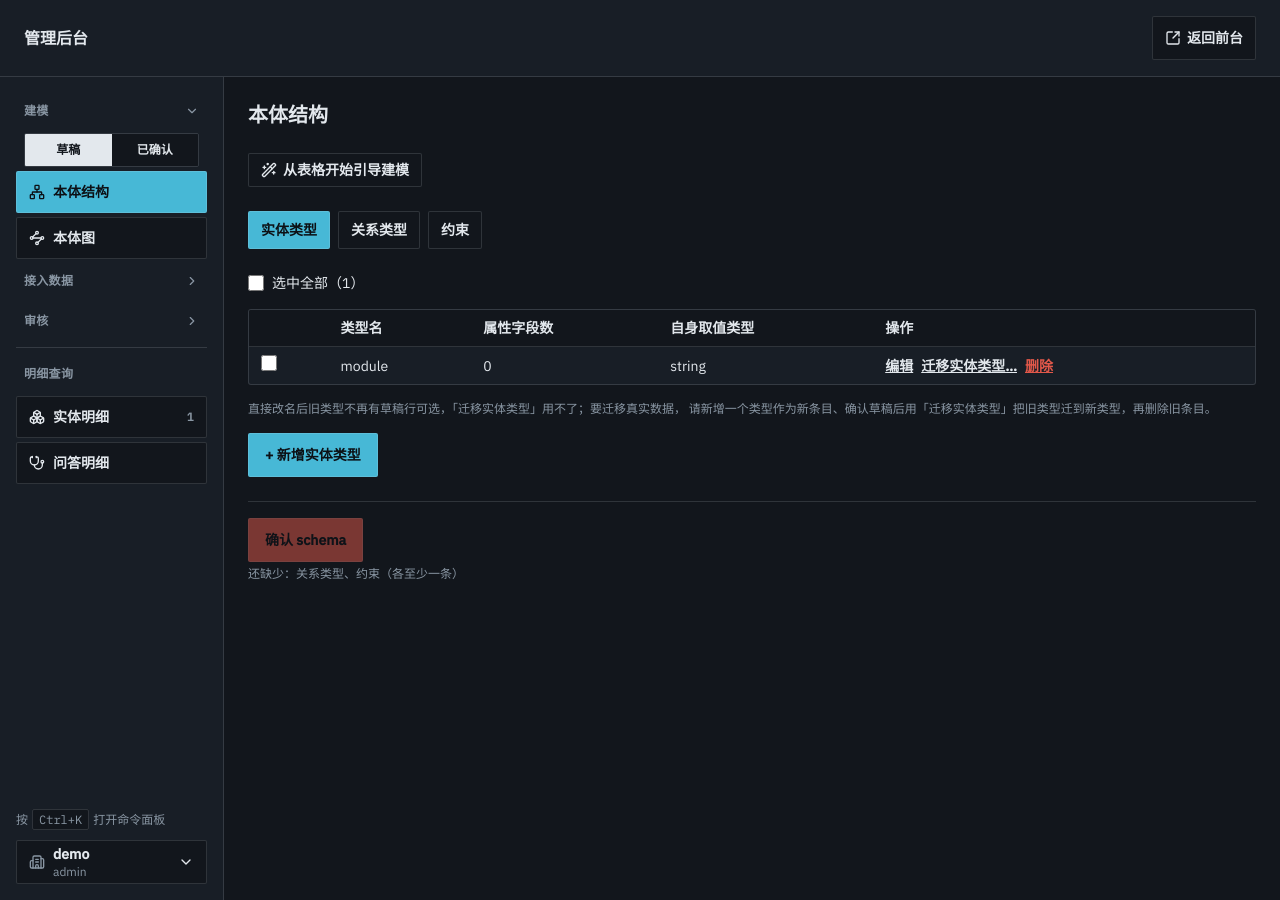
Scenario: 删除实体类型被占用时的出口 › 错误提示里给出一条按该类型筛好的实体明细链接
The image size is (1280, 900).
Click the button "删除".
click(1039, 366)  # box [1025,356,1053,376]
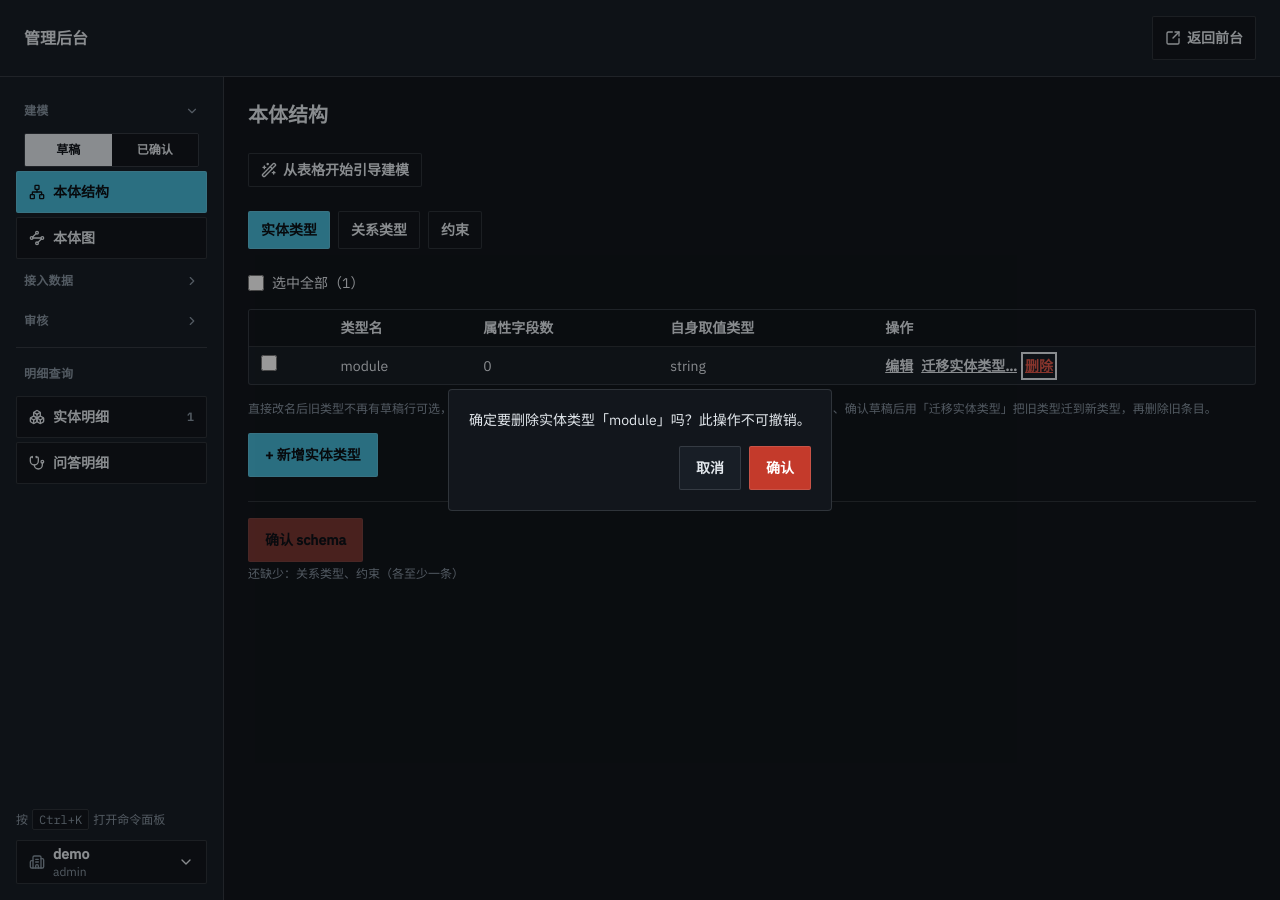
Click the button "确认".
click(780, 468)  # box [749,446,811,490]
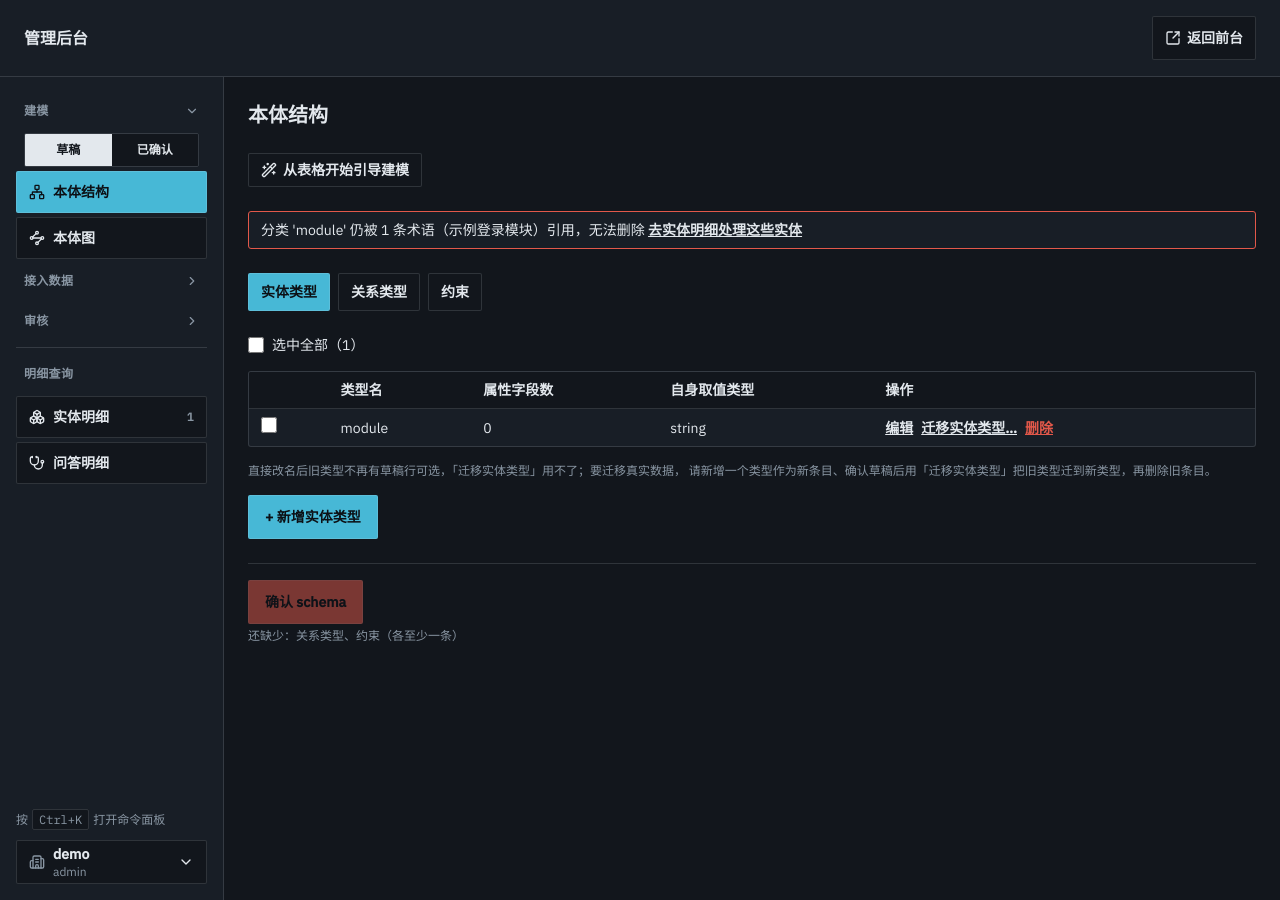
Expected: the message shows "示例登录模块", [261,221,645,239]
